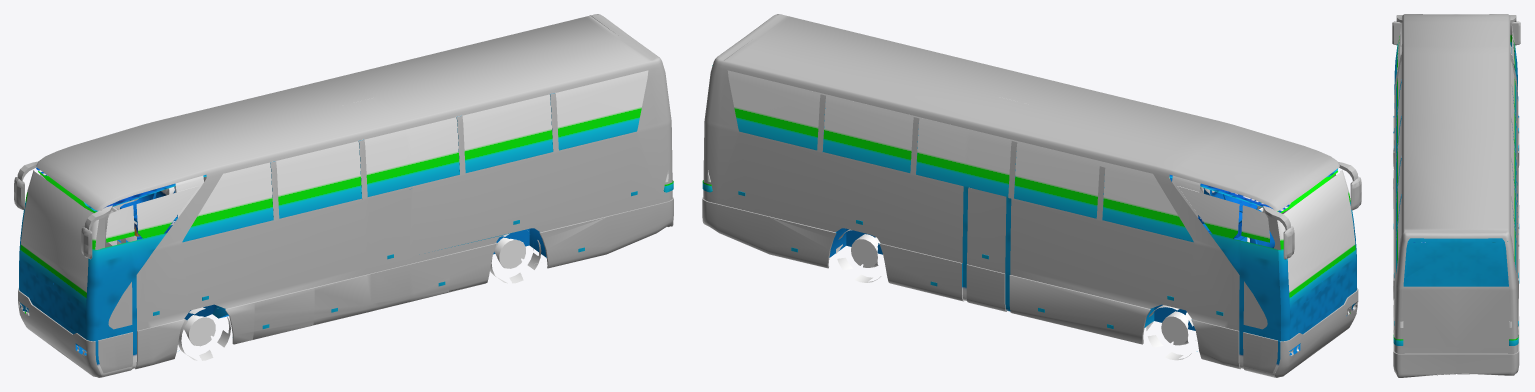
Rendered from devel Bus6.fbx.
3 views of the same model, side by side, from view 1: azimuth 30°, elevation 25°; view 2: azimuth 150°, elevation 25°; view 3: azimuth 270°, elevation 25° (orthographic). The views are drawn at different scales.
Visible parts, largest first — view 1: bus_body, bus_body.003, bus_body.002, bus_body.001, FL, BL; view 2: bus_body, door2, door1, FR, BR; view 3: bus_body, mirror, door1.
Boxes of the visible parts, x1,y1,x2,y2 form: bus_body: (14, 14, 673, 377); bus_body.003: (376, 255, 449, 310); bus_body.002: (313, 272, 377, 325); bus_body.001: (253, 288, 314, 339); FL: (178, 307, 230, 360); BL: (490, 233, 541, 283); bus_body: (702, 14, 1361, 377); door2: (962, 186, 1011, 311); door1: (1239, 241, 1280, 377); FR: (1146, 305, 1195, 360); BR: (836, 229, 880, 282); bus_body: (1392, 14, 1520, 377); mirror: (1394, 23, 1518, 347); door1: (1515, 46, 1519, 132).
Size of the model in its own units: 877 by 265 by 200.
